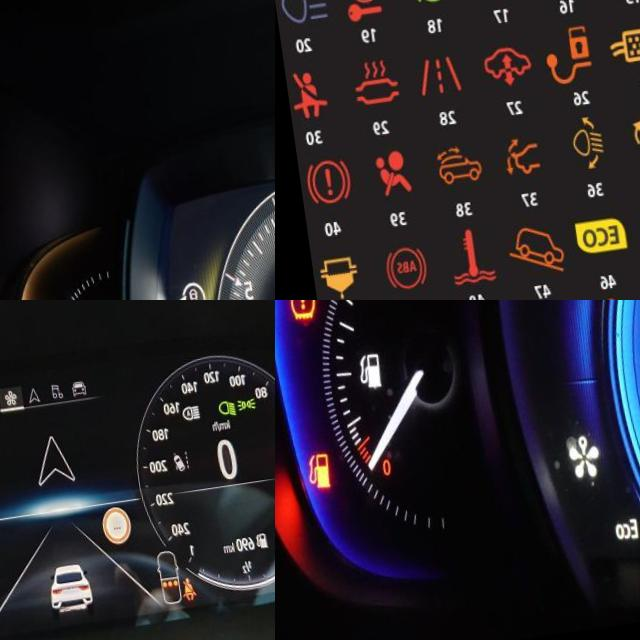Low beam: (211, 412, 230, 435)
Low fuel level: (294, 459, 319, 498)
SideLamp: (229, 411, 249, 428)
